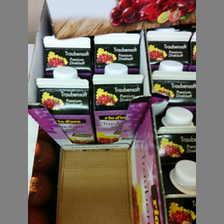juice: (36, 68, 94, 144), (93, 64, 145, 144)
